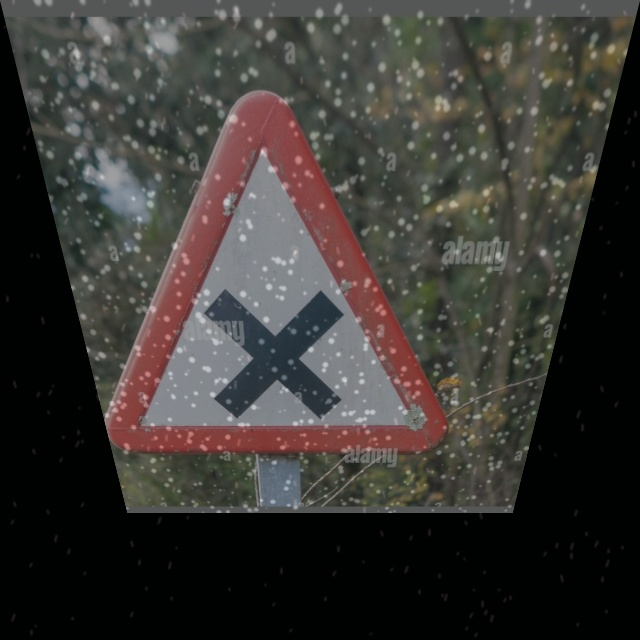Cross_Road: (40, 100, 490, 450)
